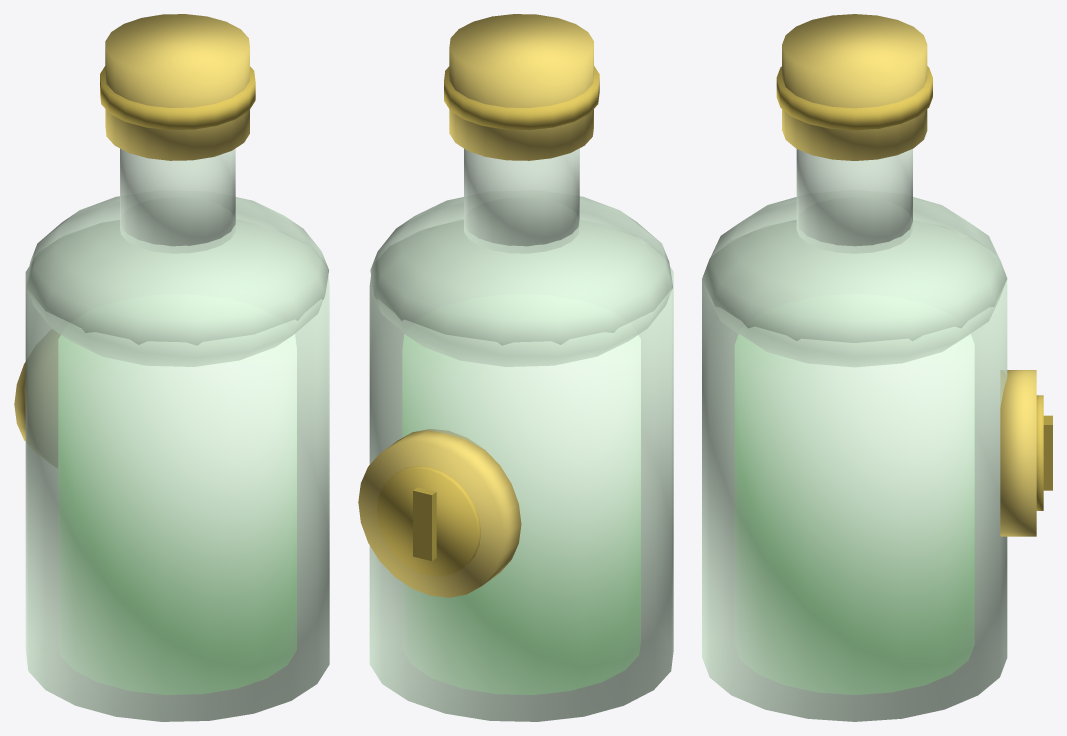
File: CashPotion.fbx
The picture shows the model from 3 angles, left to right: view 1: azimuth 30°, elevation 25°; view 2: azimuth 150°, elevation 25°; view 3: azimuth 270°, elevation 25°; orthographic projection.
Parts seen in each view (by area): view 1: CashPotion.Body, CashPotion.Liquid, CashPotion.Shoulder, CashPotion.Cap, CashPotion.Neck, CashPotion.CapBand, CashPotion.Coin; view 2: CashPotion.Body, CashPotion.Liquid, CashPotion.Shoulder, CashPotion.Cap, CashPotion.Coin, CashPotion.Neck, CashPotion.CoinFace, CashPotion.CapBand, CashPotion.CoinMark; view 3: CashPotion.Body, CashPotion.Liquid, CashPotion.Shoulder, CashPotion.Cap, CashPotion.Neck, CashPotion.Coin, CashPotion.CapBand, CashPotion.CoinFace, CashPotion.CoinMark.
Boxes of the visible parts, <box> form: CashPotion.Body: <box>25,220,329,721</box>; CashPotion.Liquid: <box>58,334,296,694</box>; CashPotion.Shoulder: <box>26,196,328,366</box>; CashPotion.Cap: <box>105,14,249,160</box>; CashPotion.Neck: <box>120,148,235,253</box>; CashPotion.CapBand: <box>100,66,255,130</box>; CashPotion.Coin: <box>14,362,25,441</box>; CashPotion.Body: <box>369,220,673,721</box>; CashPotion.Liquid: <box>402,334,640,694</box>; CashPotion.Shoulder: <box>370,196,672,366</box>; CashPotion.Cap: <box>449,14,593,160</box>; CashPotion.Coin: <box>358,429,521,597</box>; CashPotion.Neck: <box>464,148,579,253</box>; CashPotion.CoinFace: <box>376,466,480,576</box>; CashPotion.CapBand: <box>444,66,599,130</box>; CashPotion.CoinMark: <box>413,487,436,560</box>; CashPotion.Body: <box>702,220,1007,721</box>; CashPotion.Liquid: <box>735,334,974,694</box>; CashPotion.Shoulder: <box>702,197,1007,366</box>; CashPotion.Cap: <box>782,14,927,160</box>; CashPotion.Neck: <box>796,149,912,253</box>; CashPotion.Coin: <box>1000,370,1036,536</box>; CashPotion.CapBand: <box>776,66,932,130</box>; CashPotion.CoinFace: <box>1036,395,1043,510</box>; CashPotion.CoinMark: <box>1043,415,1052,490</box>.
Size of the model in its own units: 0.84 by 1.86 by 0.965.
